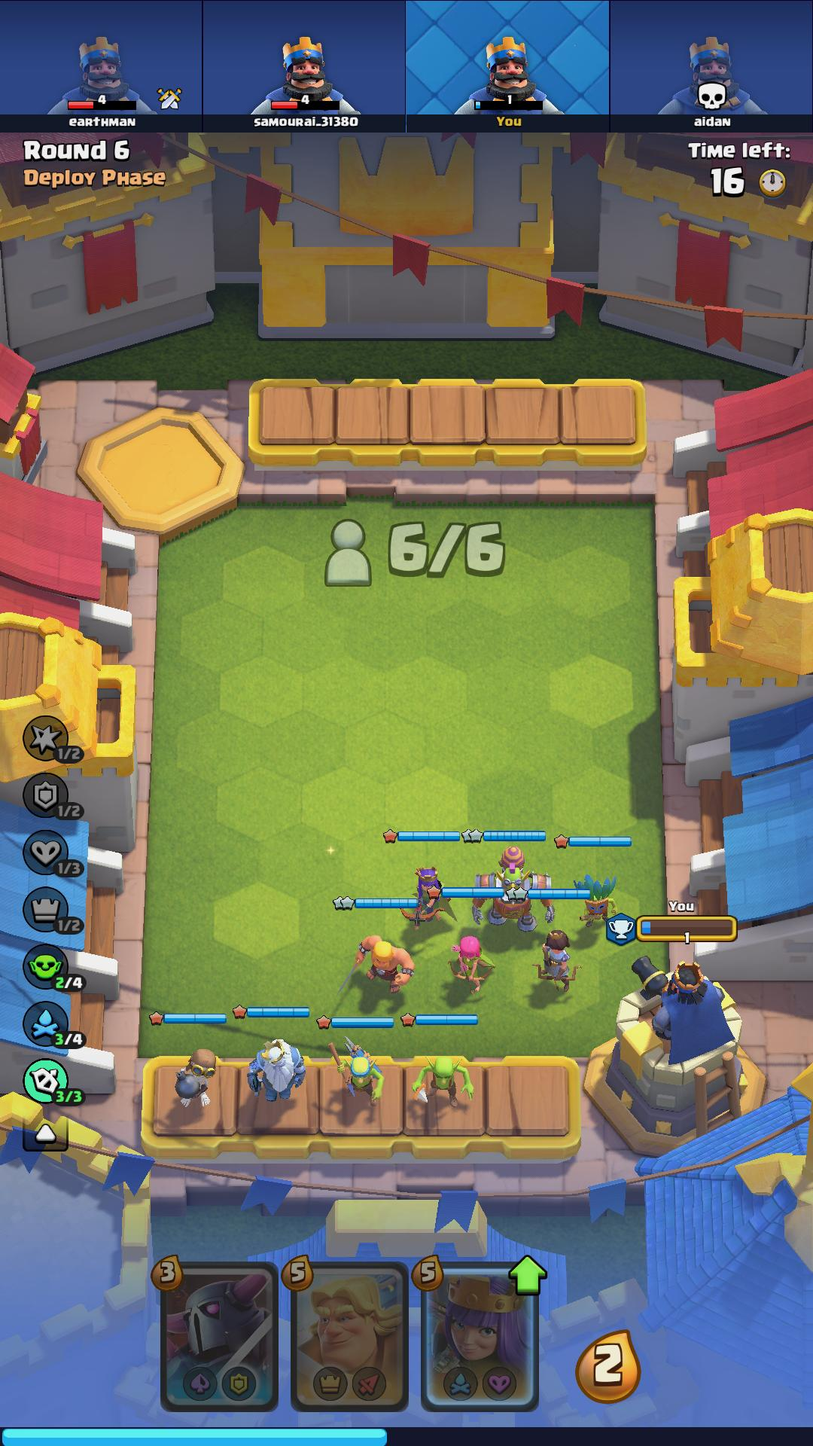archer: (438, 923, 497, 1003)
barbarian: (337, 921, 423, 998)
bomber: (153, 1039, 232, 1115)
dart: (560, 855, 634, 935)
ghost: (238, 1031, 317, 1111)
goblin: (413, 1043, 484, 1126)
hand-golden: (294, 1264, 409, 1408)
hand-pekka: (162, 1264, 277, 1410)
hand-queen: (422, 1265, 539, 1410)
machine: (472, 852, 562, 929)
princess: (523, 915, 583, 999)
queen: (400, 855, 449, 928)
spear: (319, 1024, 398, 1112)
upgrade: (507, 1253, 550, 1300)
